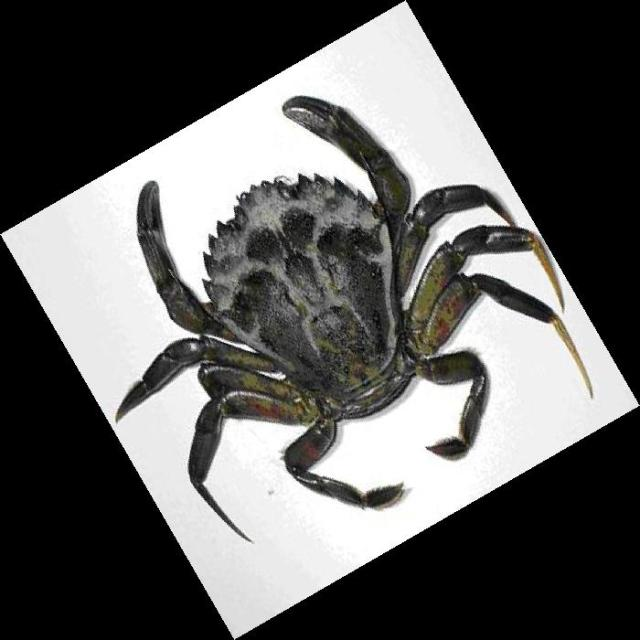European Green crab: (115, 96, 592, 539)
